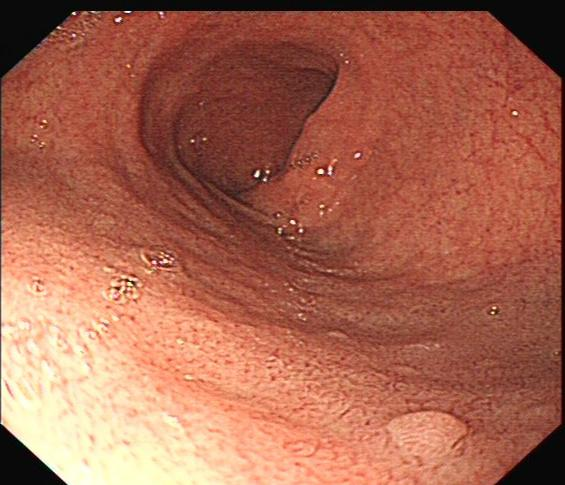Polyp: (381, 407, 473, 464)
